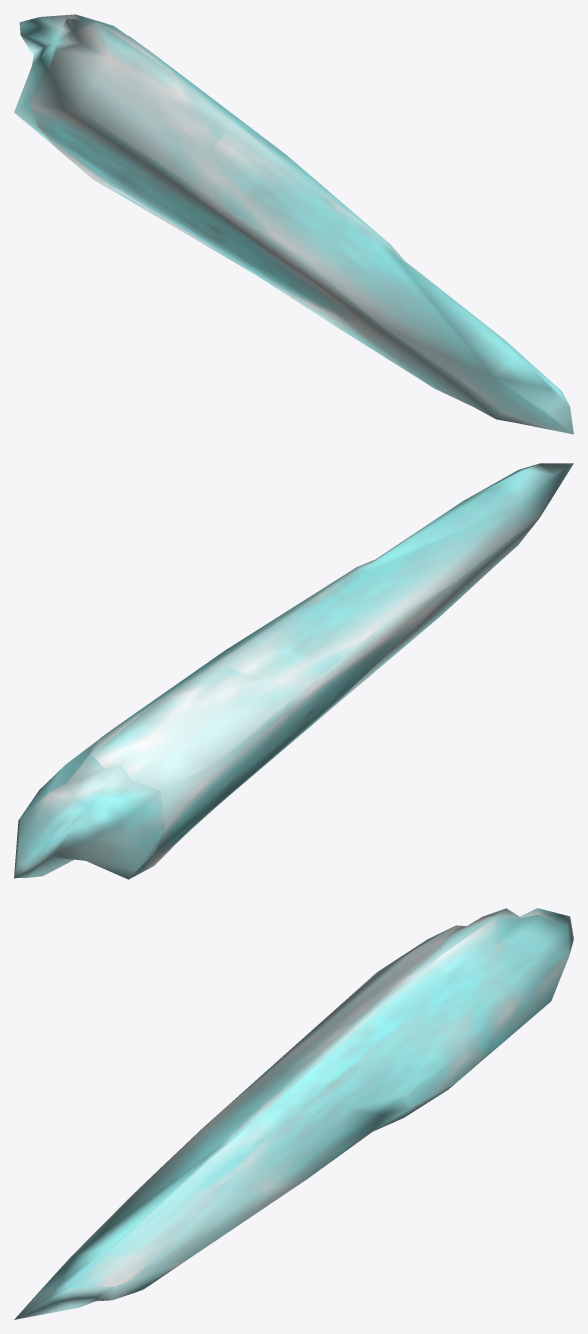
File: mei_icicle.obj
3 renders of one model, top to bottom at view 1: azimuth 30°, elevation 25°; view 2: azimuth 150°, elevation 25°; view 3: azimuth 330°, elevation 25°, orthographic.
Visible parts, largest first — view 1: Submesh_0.1.81B09AB0F566B1D2; view 2: Submesh_0.1.81B09AB0F566B1D2; view 3: Submesh_0.1.81B09AB0F566B1D2.
Part boxes in pixels (x1,y1,x2,y2): Submesh_0.1.81B09AB0F566B1D2: (14,14,573,434); Submesh_0.1.81B09AB0F566B1D2: (14,463,573,879); Submesh_0.1.81B09AB0F566B1D2: (14,908,573,1319).
Bounding box in the file's own units: 0.0706 × 0.0697 × 0.5298.
